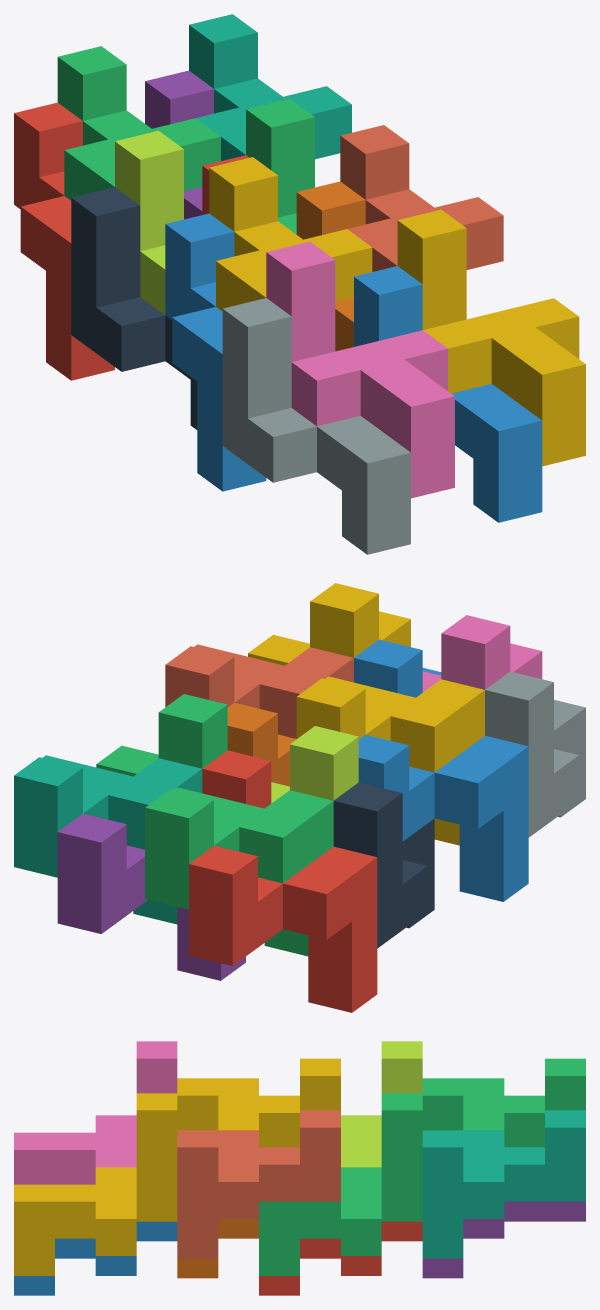
File: tiling.obj
3 renders of one model, top to bottom at view 1: azimuth 30°, elevation 25°; view 2: azimuth 150°, elevation 25°; view 3: azimuth 270°, elevation 25°, orthographic. The views are drawn at different scales.
Parts seen in each view (by area): view 1: copy_2_domain_2, copy_2_domain_4, copy_2_domain_8, copy_2_domain_6, copy_2_domain_1, copy_1_domain_1, copy_1_domain_2, copy_1_domain_3, copy_1_domain_4, copy_1_domain_8, copy_1_domain_7, copy_2_domain_3 (+3 smaller); view 2: copy_1_domain_1, copy_1_domain_2, copy_1_domain_3, copy_1_domain_7, copy_1_domain_4, copy_1_domain_5, copy_2_domain_2, copy_2_domain_1, copy_1_domain_8, copy_2_domain_8, copy_2_domain_4, copy_2_domain_7 (+4 smaller); view 3: copy_2_domain_8, copy_1_domain_7, copy_1_domain_8, copy_2_domain_7, copy_2_domain_4, copy_1_domain_3, copy_1_domain_4, copy_2_domain_3, copy_1_domain_5, copy_2_domain_6, copy_2_domain_5, copy_1_domain_6.
Boxes of the visible parts, x1=… form: copy_2_domain_2: x1=222, y1=298, x2=410, y2=554; copy_2_domain_4: x1=266, y1=241, x2=454, y2=498; copy_2_domain_8: x1=397, y1=209, x2=585, y2=466; copy_2_domain_6: x1=354, y1=266, x2=542, y2=522; copy_2_domain_1: x1=71, y1=187, x2=197, y2=429; copy_1_domain_1: x1=14, y1=102, x2=114, y2=380; copy_1_domain_2: x1=165, y1=213, x2=266, y2=491; copy_1_domain_3: x1=57, y1=46, x2=220, y2=200; copy_1_domain_4: x1=209, y1=157, x2=372, y2=311; copy_1_domain_8: x1=340, y1=125, x2=503, y2=271; copy_1_domain_7: x1=189, y1=14, x2=351, y2=160; copy_2_domain_3: x1=115, y1=130, x2=183, y2=314; copy_1_domain_1: x1=189, y1=845, x2=377, y2=1012; copy_1_domain_2: x1=358, y1=734, x2=528, y2=901; copy_1_domain_3: x1=145, y1=787, x2=333, y2=956; copy_1_domain_7: x1=14, y1=755, x2=202, y2=924; copy_1_domain_4: x1=296, y1=676, x2=484, y2=845; copy_1_domain_5: x1=57, y1=813, x2=245, y2=980; copy_2_domain_2: x1=485, y1=671, x2=585, y2=837; copy_2_domain_1: x1=333, y1=782, x2=434, y2=948; copy_1_domain_8: x1=165, y1=644, x2=353, y2=738; copy_2_domain_8: x1=248, y1=583, x2=410, y2=665; copy_2_domain_4: x1=422, y1=615, x2=542, y2=692; copy_2_domain_7: x1=96, y1=694, x2=227, y2=776; copy_2_domain_8: x1=14, y1=1093, x2=177, y2=1275; copy_1_domain_7: x1=422, y1=1110, x2=585, y2=1258; copy_1_domain_8: x1=177, y1=1110, x2=340, y2=1258; copy_2_domain_7: x1=259, y1=1093, x2=422, y2=1275; copy_2_domain_4: x1=14, y1=1041, x2=177, y2=1184; copy_1_domain_3: x1=422, y1=1058, x2=585, y2=1147; copy_1_domain_4: x1=177, y1=1058, x2=340, y2=1147; copy_2_domain_3: x1=341, y1=1041, x2=422, y2=1167; copy_1_domain_5: x1=422, y1=1201, x2=585, y2=1278; copy_2_domain_6: x1=14, y1=1221, x2=177, y2=1295; copy_2_domain_5: x1=259, y1=1221, x2=422, y2=1295; copy_1_domain_6: x1=177, y1=1219, x2=258, y2=1278.
Bounding box in the file's own units: 7 × 5 × 14.
